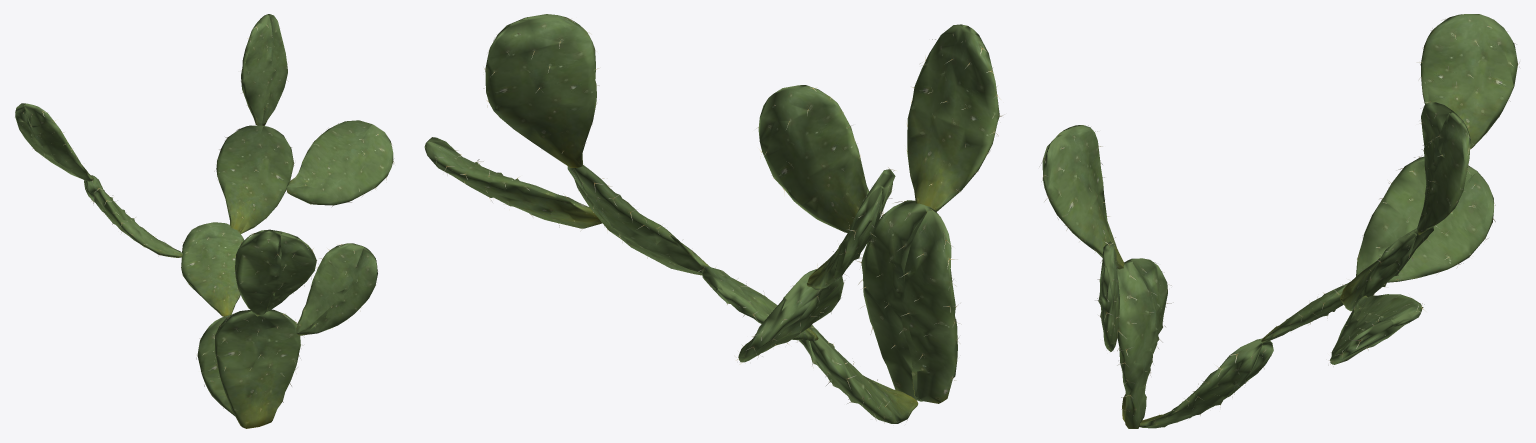
The model's file is opuntia_a.glb.
3 renders of one model, left to right at view 1: azimuth 30°, elevation 25°; view 2: azimuth 150°, elevation 25°; view 3: azimuth 270°, elevation 25°, orthographic. The views are drawn at different scales.
Parts seen in each view (by area): view 1: Opuntia_ficus_indica_HD_Cactus Needle 01_0; view 2: Opuntia_ficus_indica_HD_Cactus Needle 01_0; view 3: Opuntia_ficus_indica_HD_Cactus Needle 01_0.
Part boxes in pixels (box(x1,y1,x2,y2)): Opuntia_ficus_indica_HD_Cactus Needle 01_0: box(15, 14, 394, 428); Opuntia_ficus_indica_HD_Cactus Needle 01_0: box(424, 14, 1004, 423); Opuntia_ficus_indica_HD_Cactus Needle 01_0: box(1039, 14, 1519, 428).
Bounding box in the file's own units: 1.13 × 0.9858 × 1.08.
Materials: 5 (5 with a texture image).
